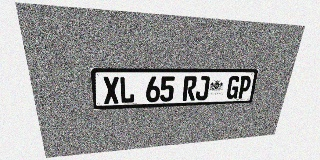5: (160, 76, 175, 102)
6: (146, 76, 161, 102)
G: (226, 76, 241, 99)
J: (195, 76, 210, 100)
L: (119, 76, 135, 103)
P: (237, 76, 252, 99)
R: (182, 76, 197, 101)
X: (103, 76, 119, 104)
